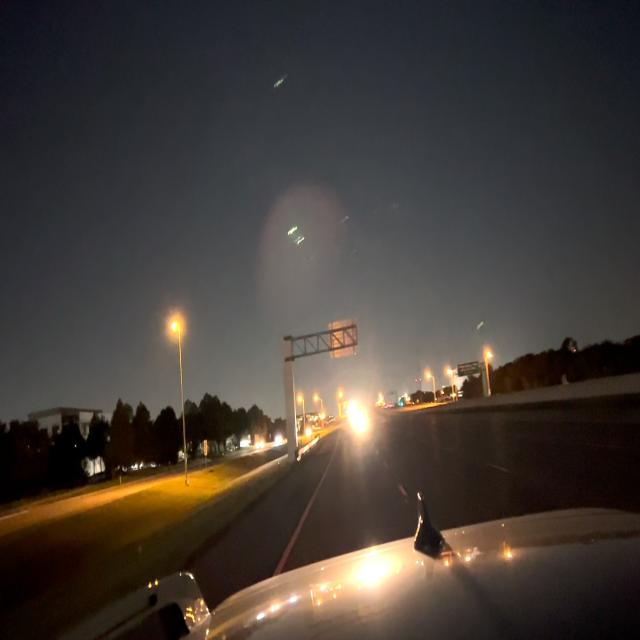back-of-sign: (328, 317, 357, 361)
